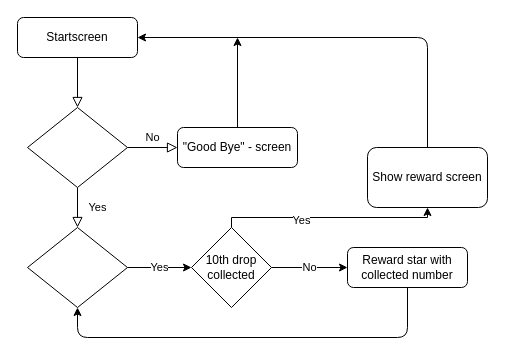
The diagram is 505 pixels wide and 363 high, and some of its shapes have lost their labels. The shapes that lost their labels are listed below. From the top down, each one's centre as x and y in pixels, then its label:
At point (77, 147): "Start game".
At point (77, 267): "Rain drop catched".
